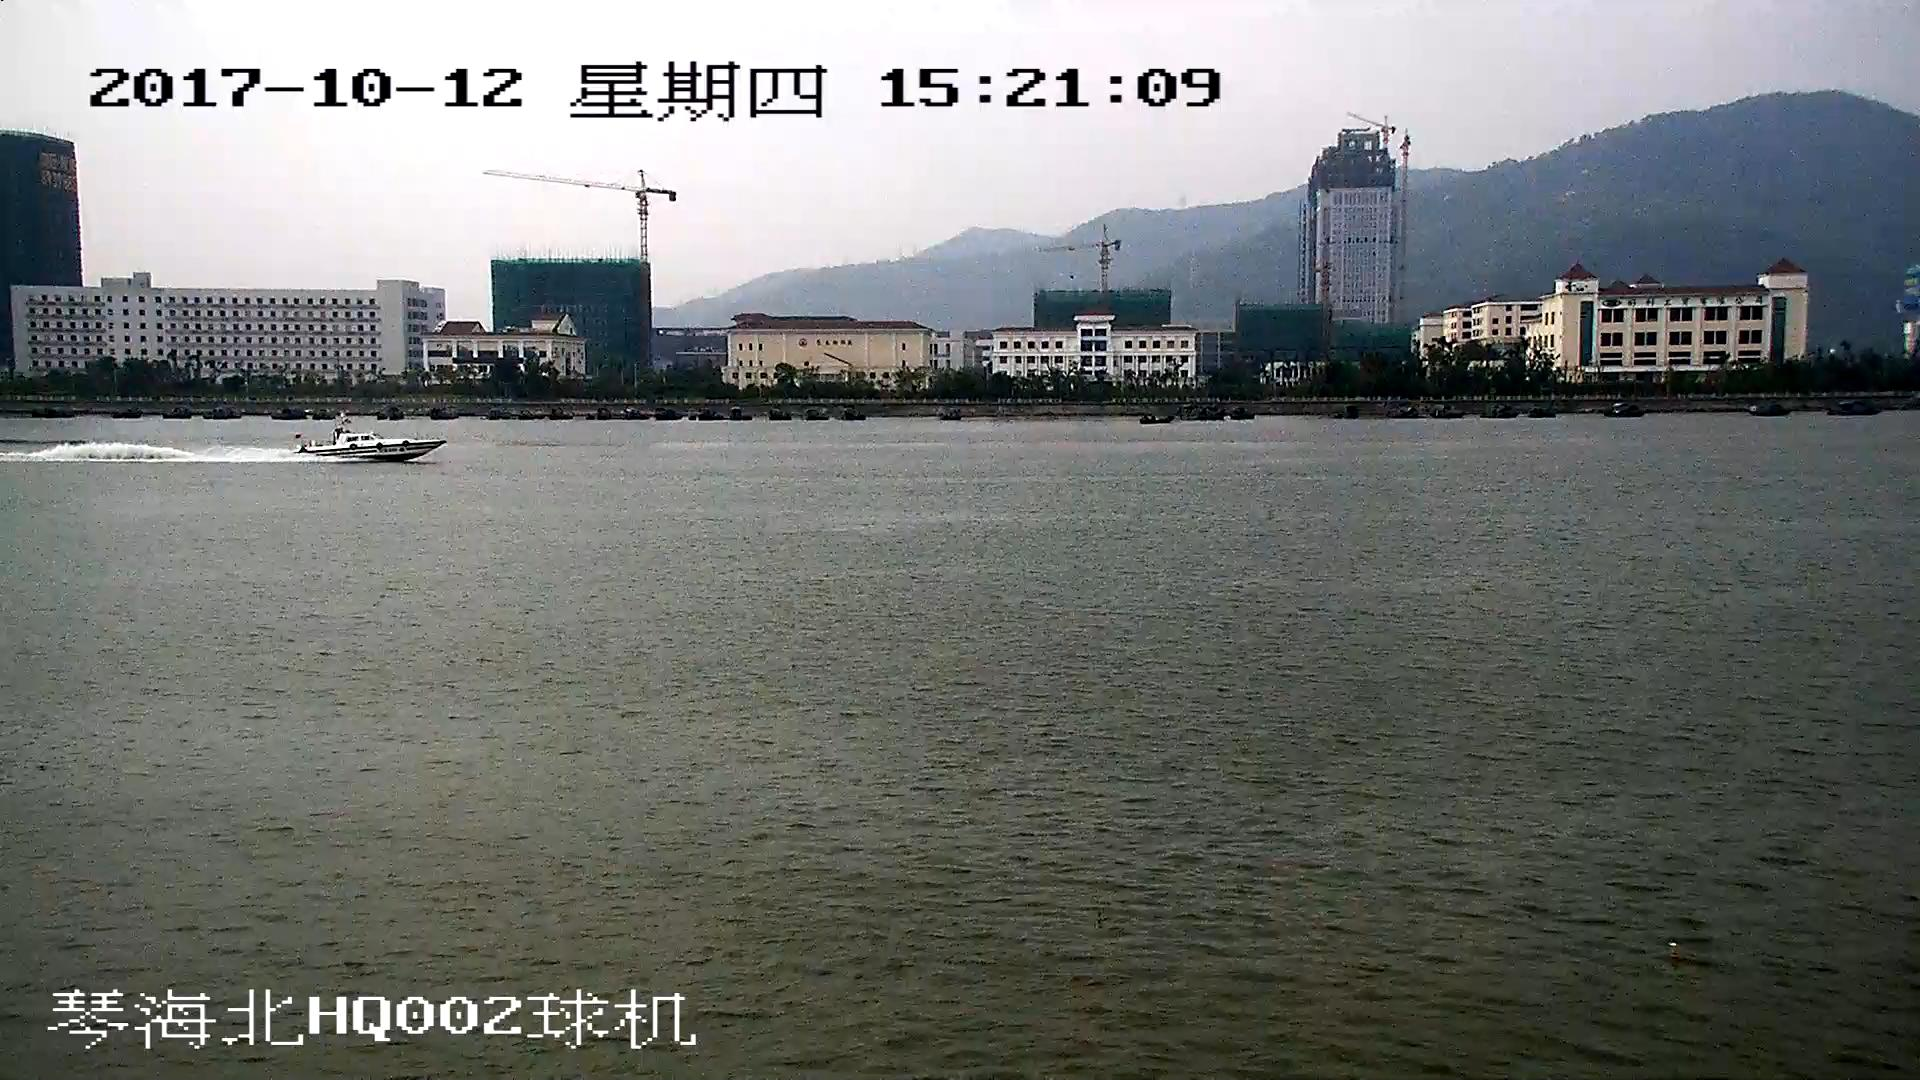passenger ship: (294, 426, 438, 463)
